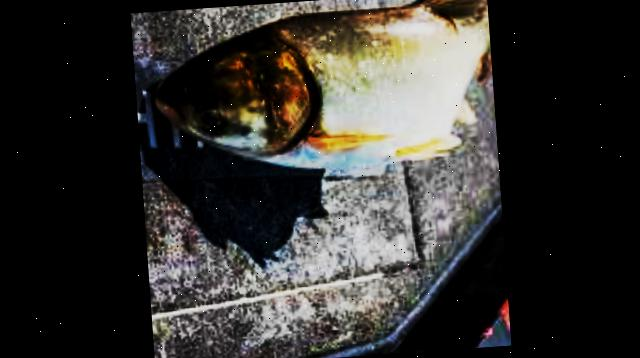Healthy Fish: (154, 0, 491, 171)
